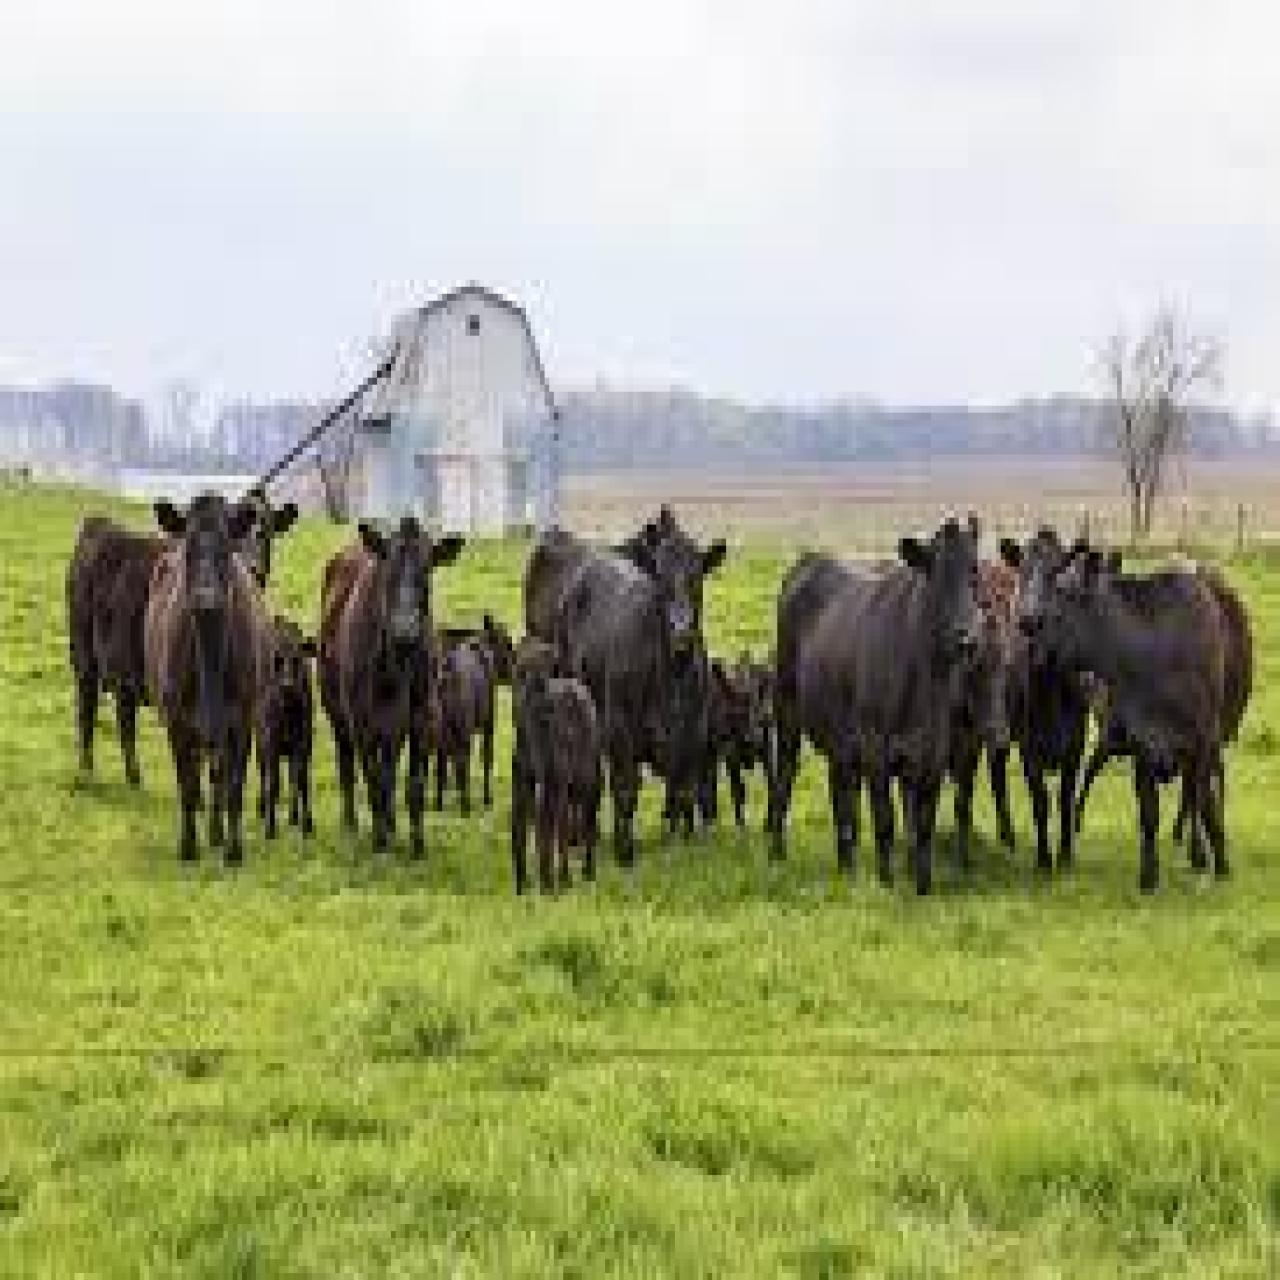cow: (772, 508, 992, 899), (1027, 522, 1254, 892), (63, 476, 300, 783), (560, 532, 728, 867), (321, 504, 465, 860), (147, 493, 278, 864), (999, 525, 1096, 881), (947, 550, 1027, 885), (517, 501, 685, 647), (512, 668, 600, 899), (435, 605, 519, 815), (700, 644, 775, 839), (263, 605, 324, 836)
